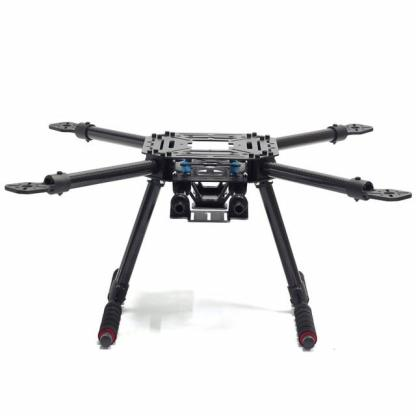drone: (15, 102, 416, 266)
